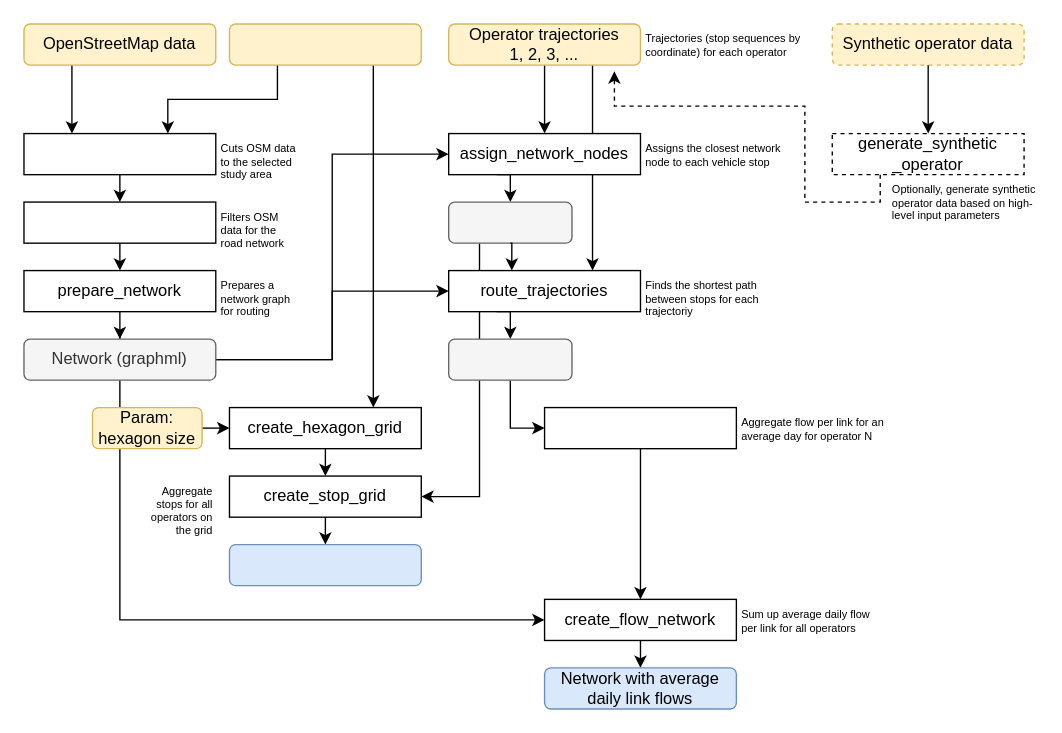
Image size: 1062x733. Some labels were removed from this diagram. Here are the shapes that lost their labels. From the top down, the box of each, then its label:
(228, 23, 421, 65): Study area (geojson)
(23, 132, 216, 175): cut_osm
(23, 201, 216, 243): filter_osm
(447, 201, 572, 243): Node mapping for operator N
(447, 338, 572, 380): Routes for operator N
(543, 406, 736, 449): aggregate_flows
(228, 543, 421, 586): Hexagon grid with stop counts
